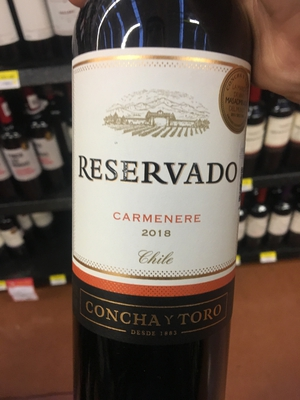reservado carmenere: (71, 3, 264, 396)
